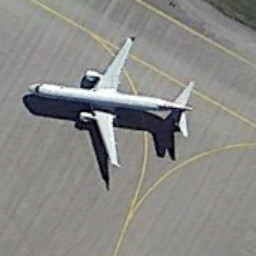Airplane: (19, 26, 202, 186)
